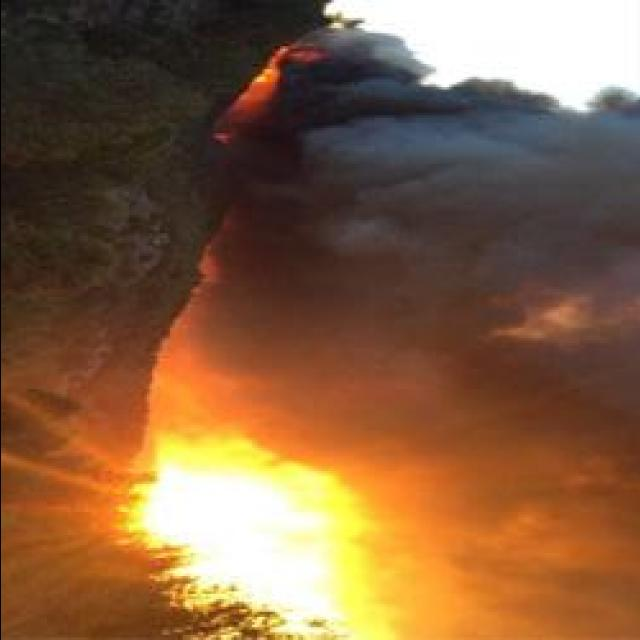fire: (153, 474, 290, 604)
smoke: (251, 105, 637, 306), (407, 377, 637, 640), (162, 324, 392, 436), (284, 27, 428, 166), (417, 294, 619, 389), (343, 461, 419, 640)
